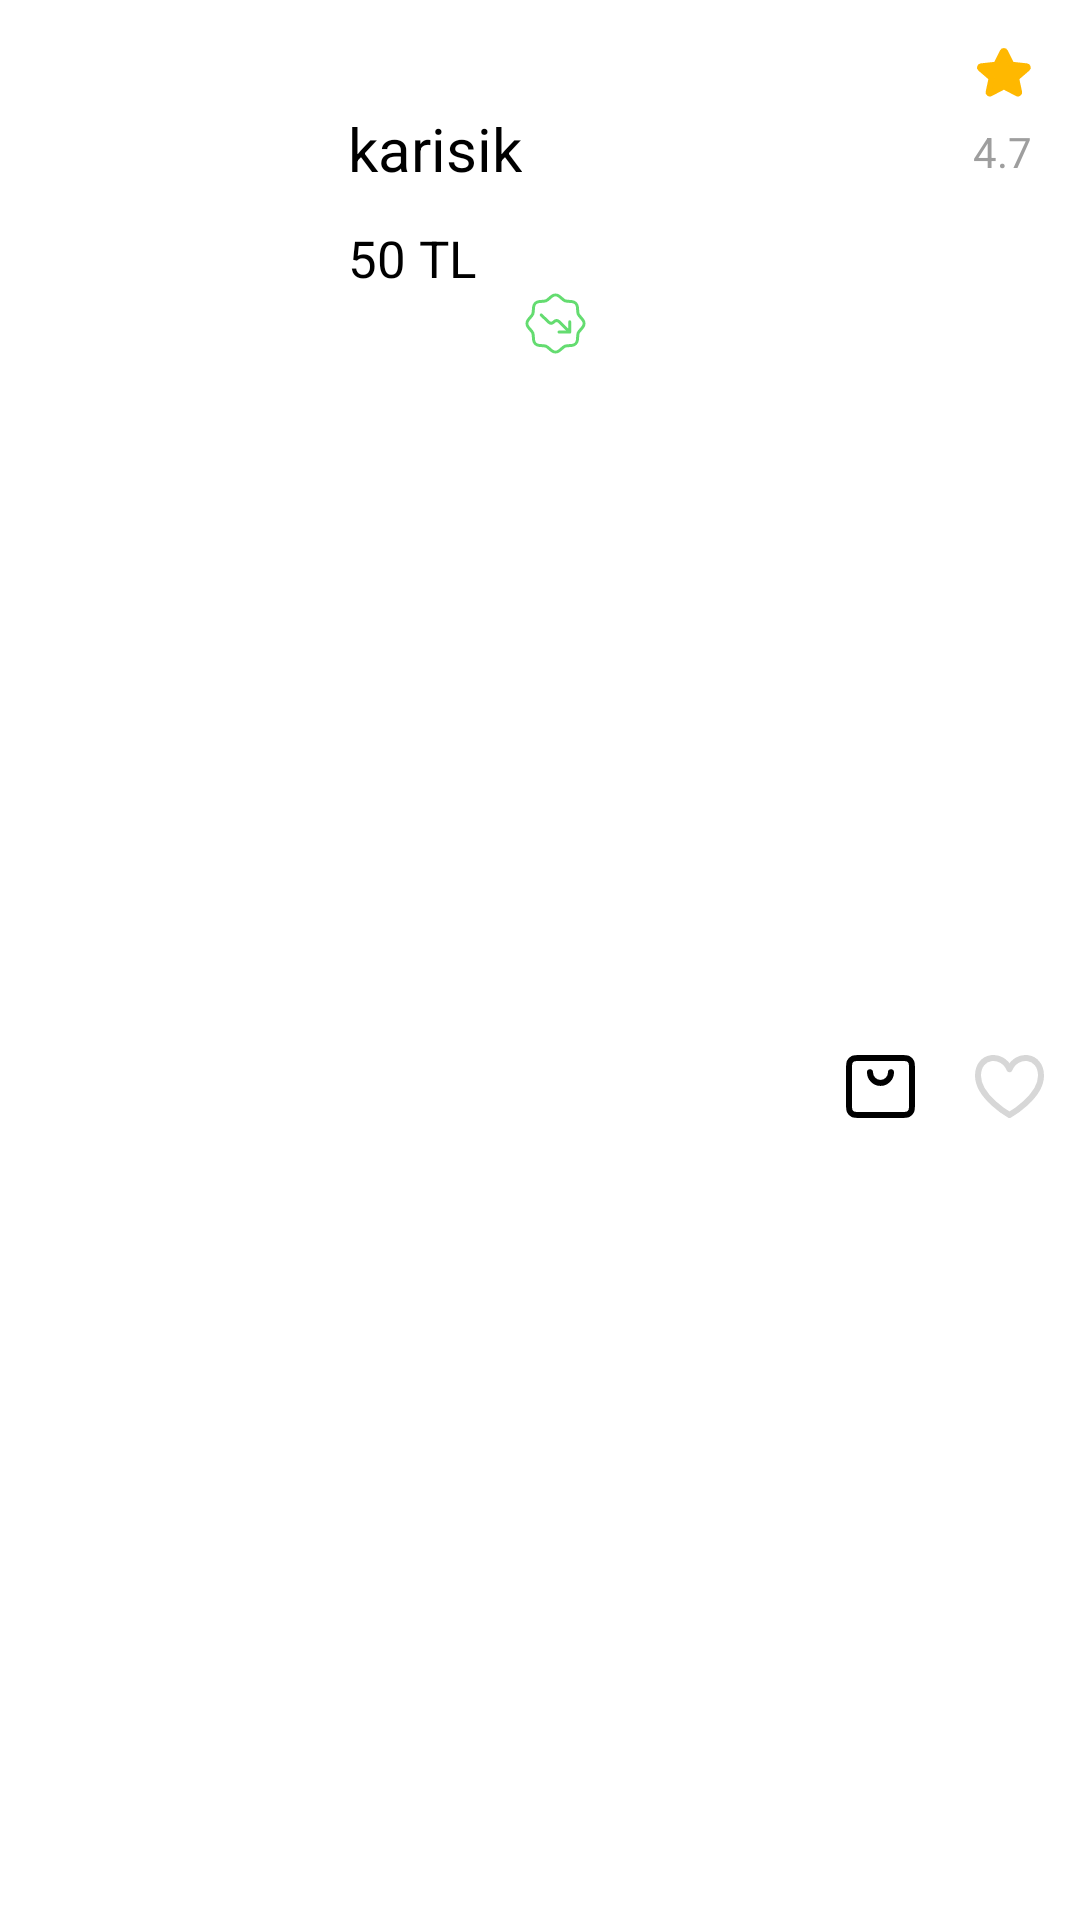

Where icons sit on this 1080*1920 app screen, as (x1, y1, x2, y2):
bagdark: (846, 1055, 915, 1118)
heartrv: (975, 1055, 1044, 1118)
star: (977, 48, 1031, 97)
